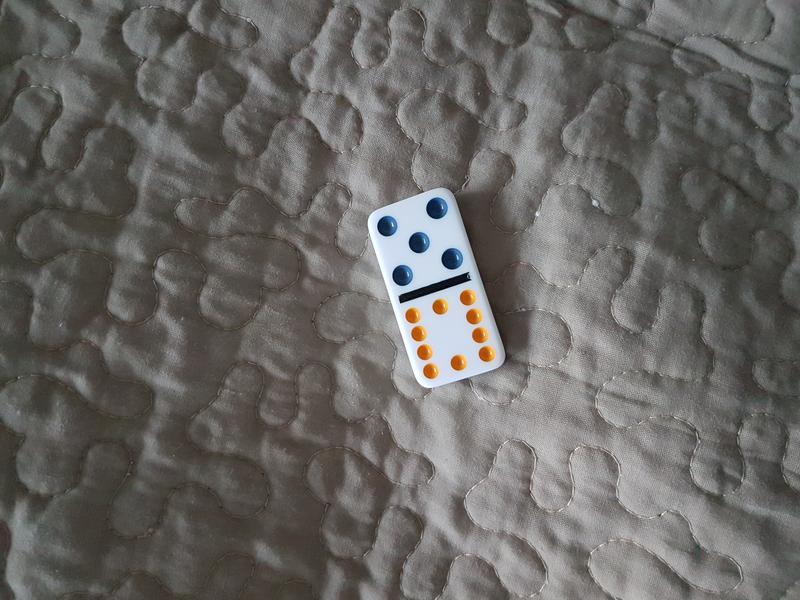Domino: (365, 185, 509, 390)
